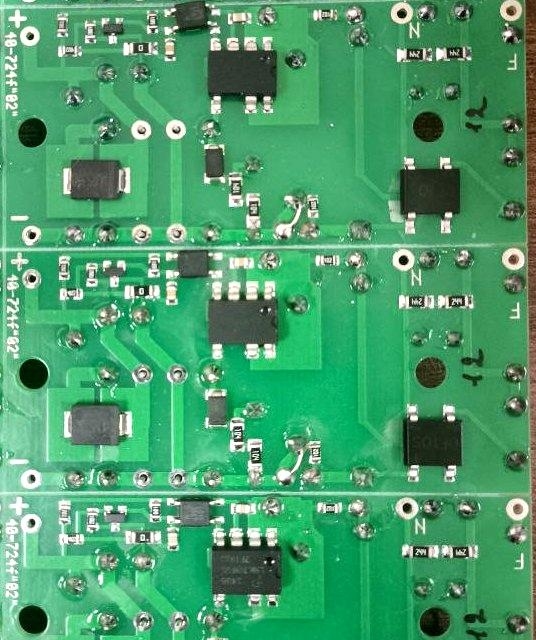chip-capacitor: (229, 501, 257, 516), (166, 526, 181, 552), (228, 256, 255, 270), (165, 280, 179, 306), (227, 11, 252, 25), (164, 37, 176, 62)
chip-resistor: (441, 543, 481, 560), (397, 292, 436, 309), (401, 543, 440, 560), (437, 293, 475, 310), (246, 437, 264, 472), (435, 46, 474, 62), (123, 284, 162, 300), (124, 529, 163, 545), (229, 417, 246, 453), (228, 171, 244, 209), (245, 192, 261, 229), (122, 41, 160, 56), (395, 47, 433, 62), (148, 497, 163, 524), (315, 501, 343, 515), (85, 261, 99, 288), (147, 252, 161, 279), (58, 532, 85, 546), (85, 506, 99, 533), (145, 9, 159, 35), (312, 8, 338, 22), (58, 287, 84, 301), (314, 254, 341, 267), (308, 440, 322, 465), (56, 12, 69, 38), (306, 193, 319, 219), (58, 255, 71, 281), (58, 499, 71, 525), (84, 19, 97, 44), (57, 45, 83, 57)
diode: (62, 402, 134, 447), (61, 158, 133, 201), (204, 387, 229, 430), (203, 142, 227, 185)
ic: (208, 279, 283, 362), (211, 526, 283, 609), (207, 36, 280, 115), (398, 154, 464, 235), (402, 401, 464, 484), (162, 1, 223, 36), (164, 250, 226, 281), (166, 497, 226, 526)
transistor: (102, 503, 128, 533), (102, 258, 127, 289), (100, 15, 125, 44)
